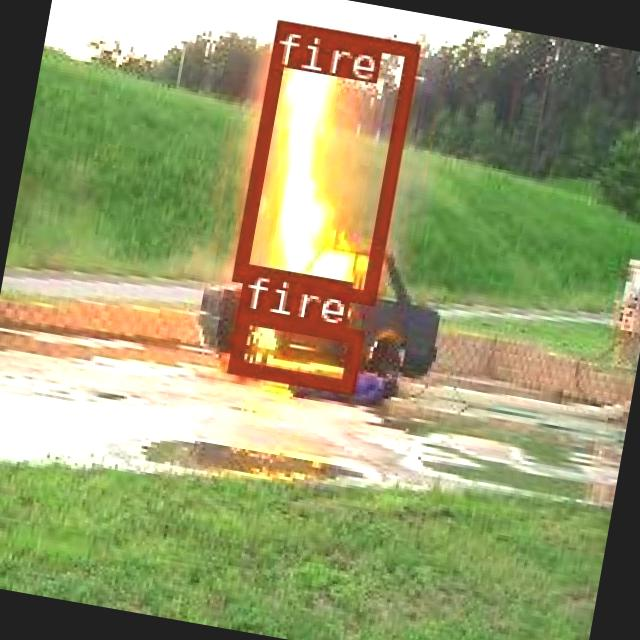fire: (230, 16, 417, 302), (224, 306, 360, 391)
